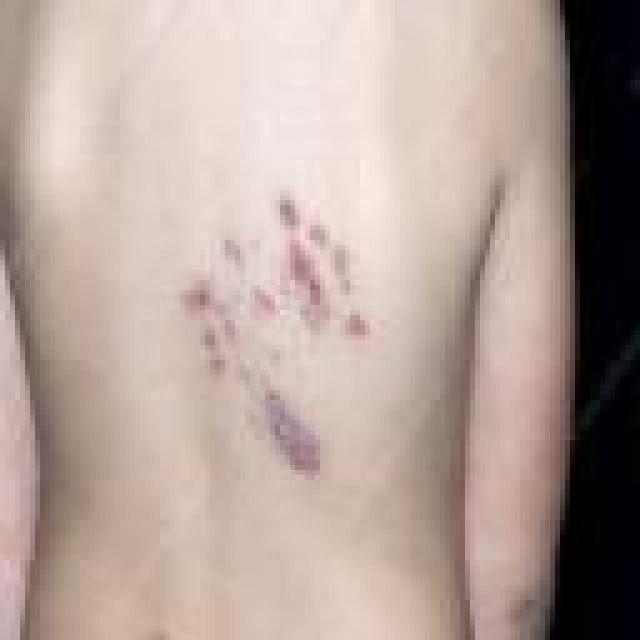Shingles: (184, 190, 370, 481)
